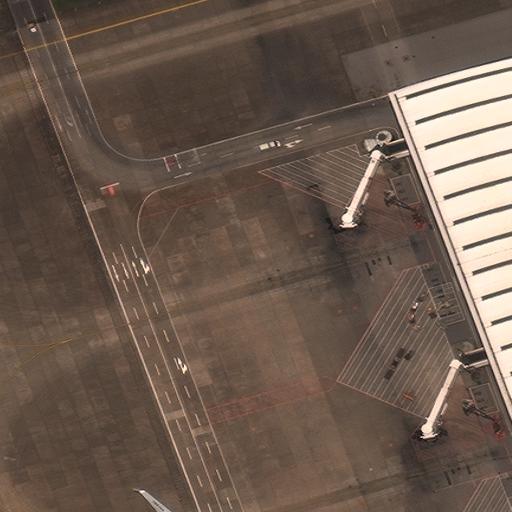Medium Civil Transport: (127, 489, 221, 511)
